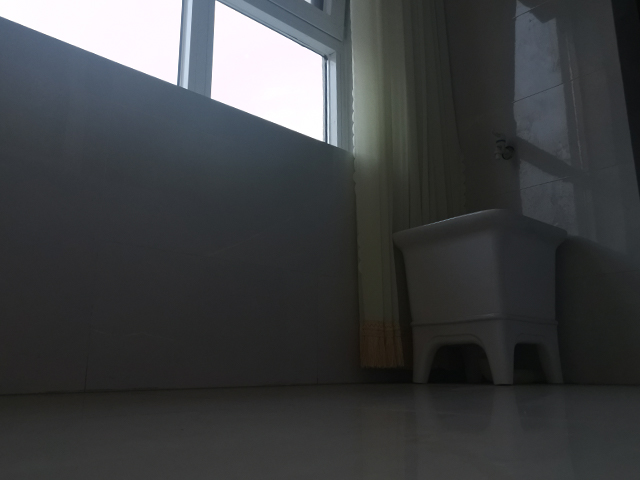curtain: (350, 1, 469, 373)
